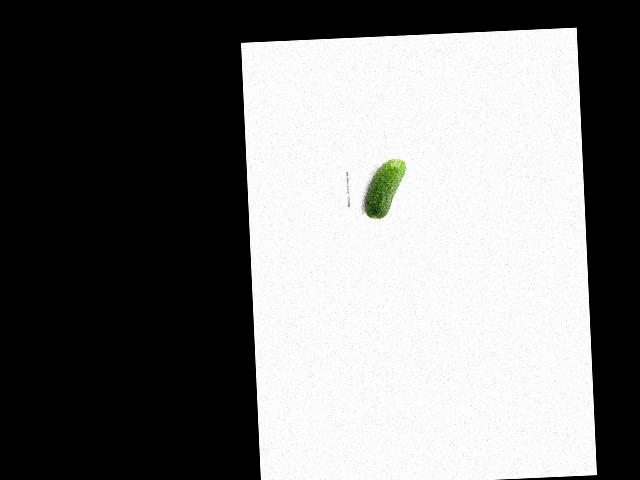cucumber: (362, 158, 408, 219)
